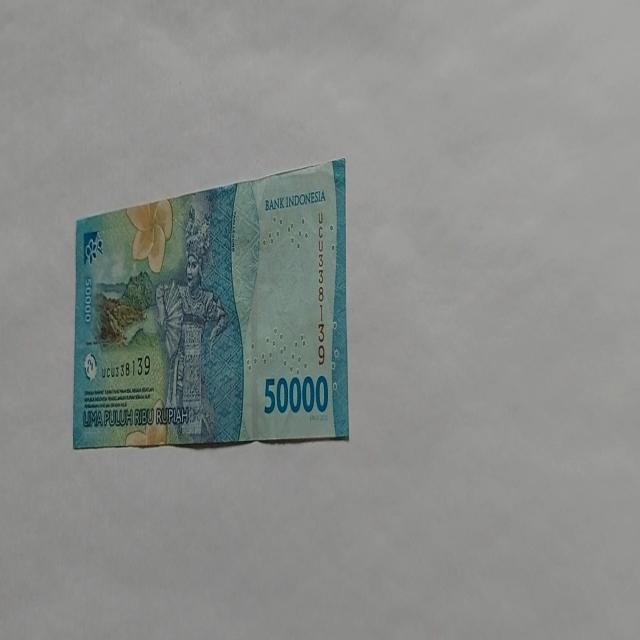lima puluh ribu rupiah: (71, 156, 349, 450)
